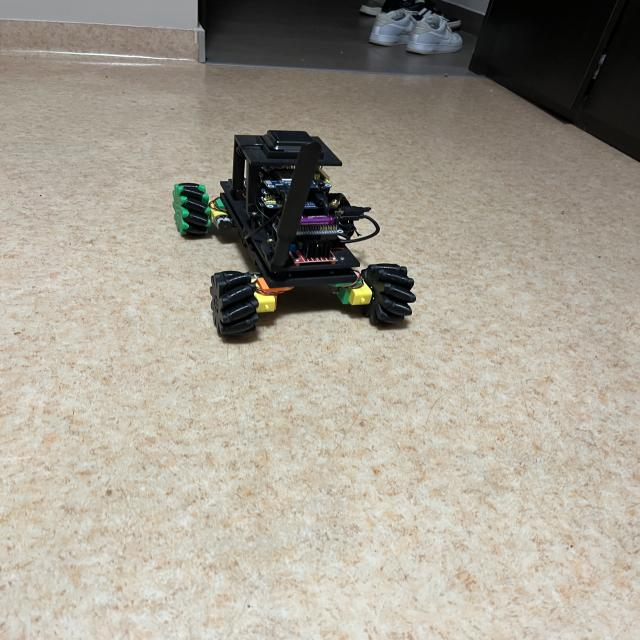robot: (172, 131, 415, 336)
